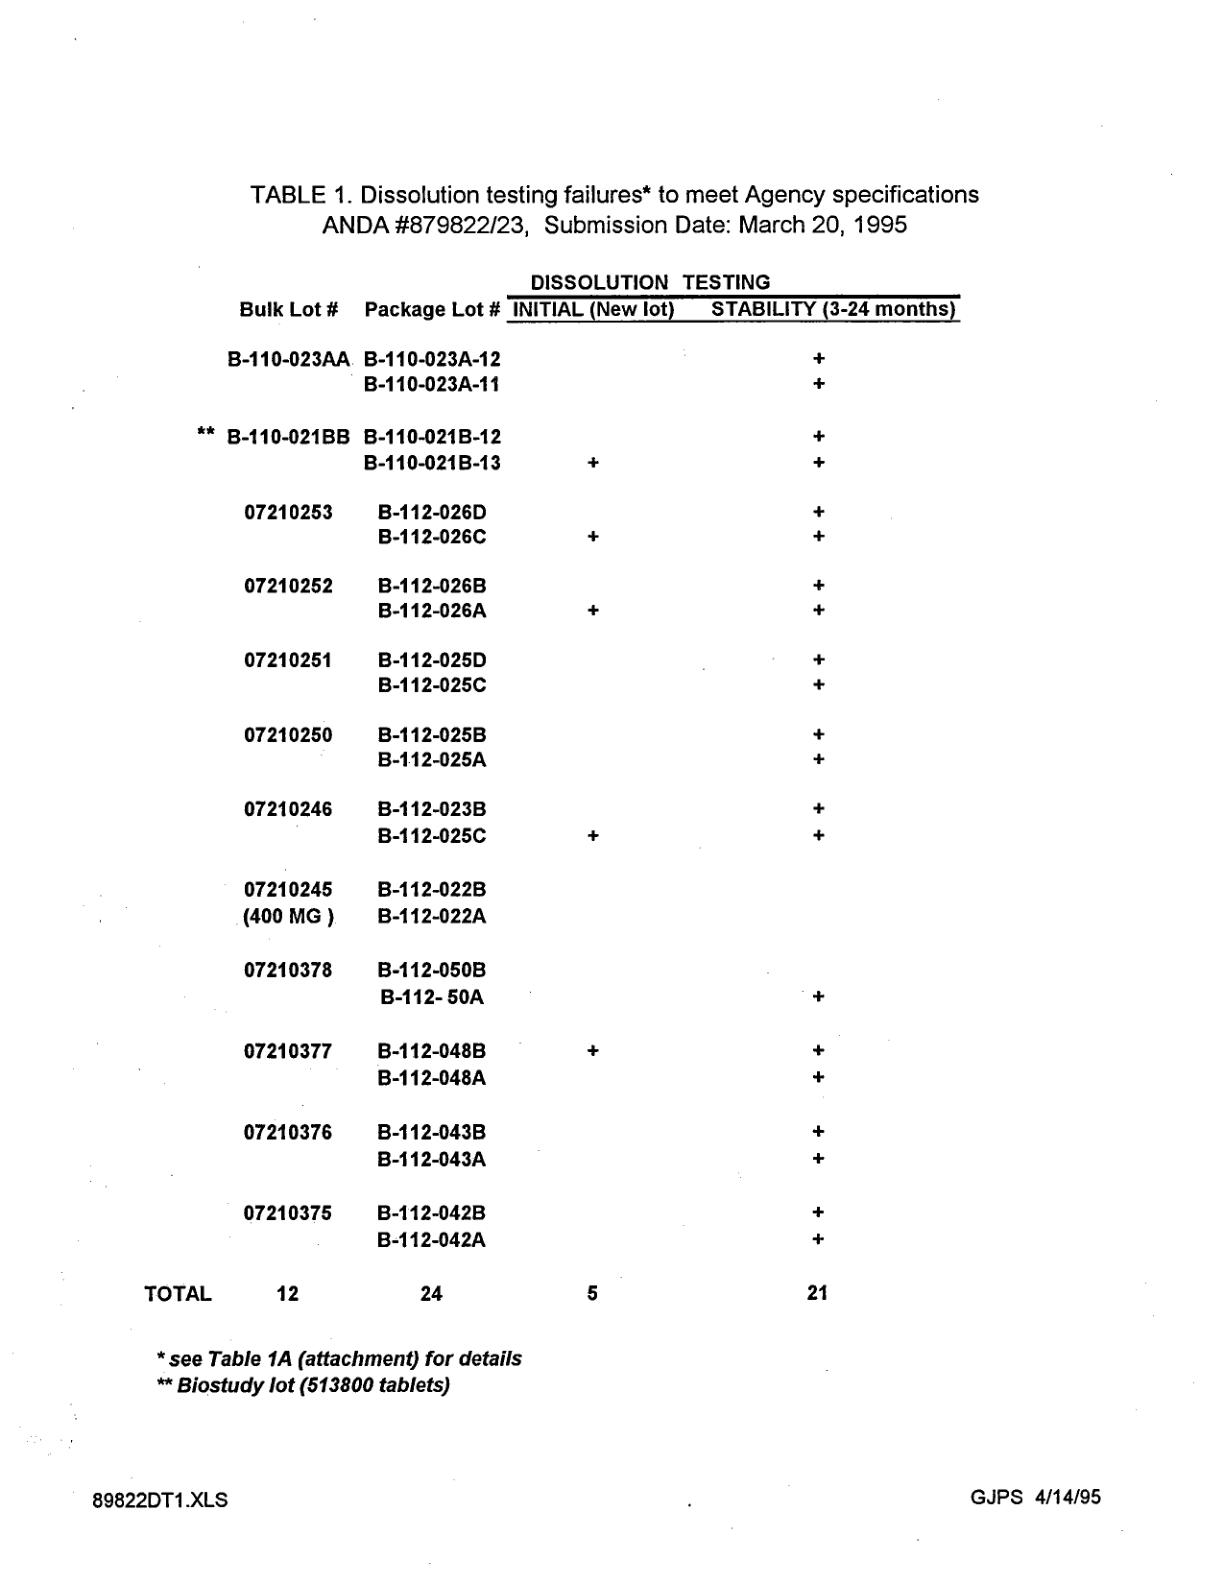nolines: (136, 270, 967, 1306)
